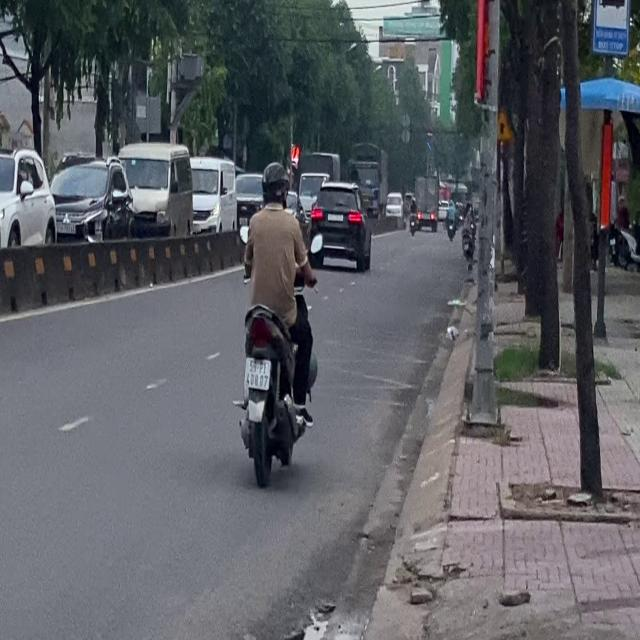helmet: (260, 160, 288, 206)
licenseplate: (234, 157, 318, 484)
nohelmet: (245, 357, 270, 391)
